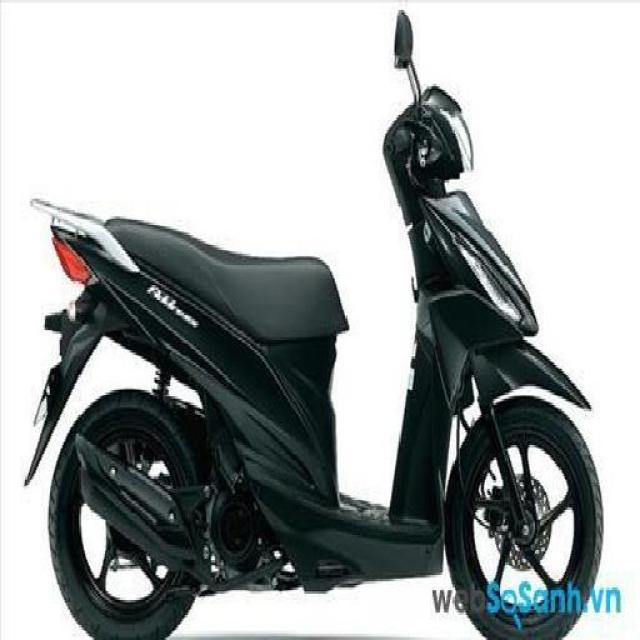All: (20, 84, 608, 640)
Head: (378, 84, 482, 183)
Tail: (29, 191, 115, 287)
